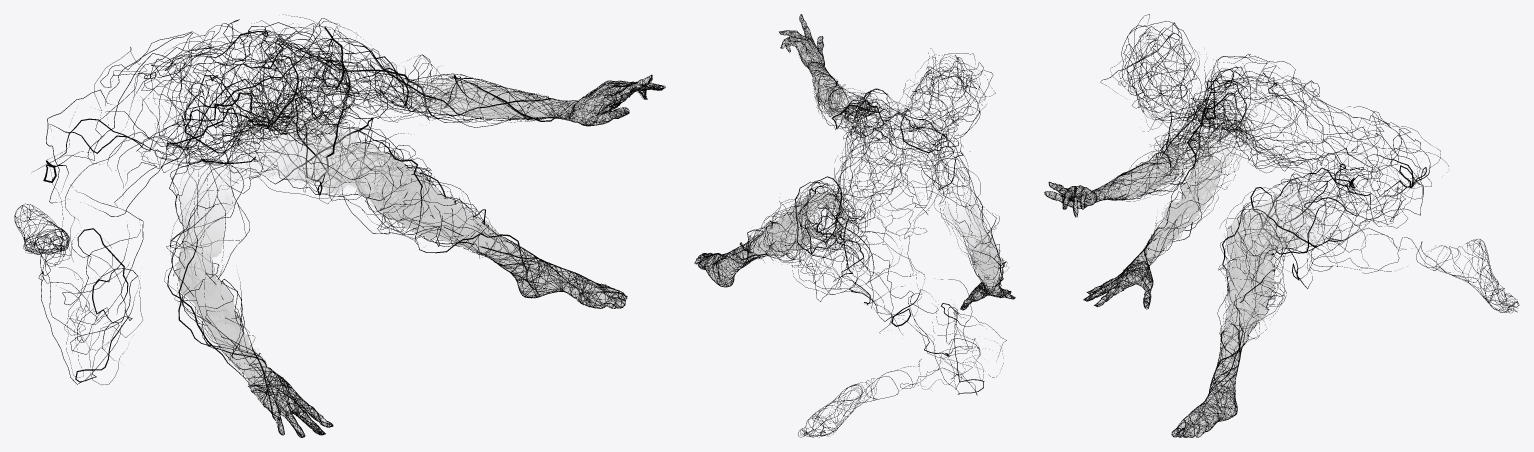
Rendered from model-3.zeNsMlvR.glb.
3 renders of one model, left to right at view 1: azimuth 30°, elevation 25°; view 2: azimuth 150°, elevation 25°; view 3: azimuth 270°, elevation 25°, orthographic. The views are drawn at different scales.
Parts seen in each view (by area): view 1: veins, rndr_pose_03_v2; view 2: veins, rndr_pose_03_v2; view 3: veins, rndr_pose_03_v2.
Boxes of the visible parts, box(x1,y1,x2,y2) form: veins: box(14, 14, 665, 437); rndr_pose_03_v2: box(176, 76, 662, 436); veins: box(694, 14, 1015, 437); rndr_pose_03_v2: box(695, 16, 1013, 309); veins: box(1044, 14, 1519, 437); rndr_pose_03_v2: box(1045, 129, 1342, 436).
Size of the model in its own units: 1.1 by 0.8387 by 1.18.
Materials: 2 (1 with a texture image).
